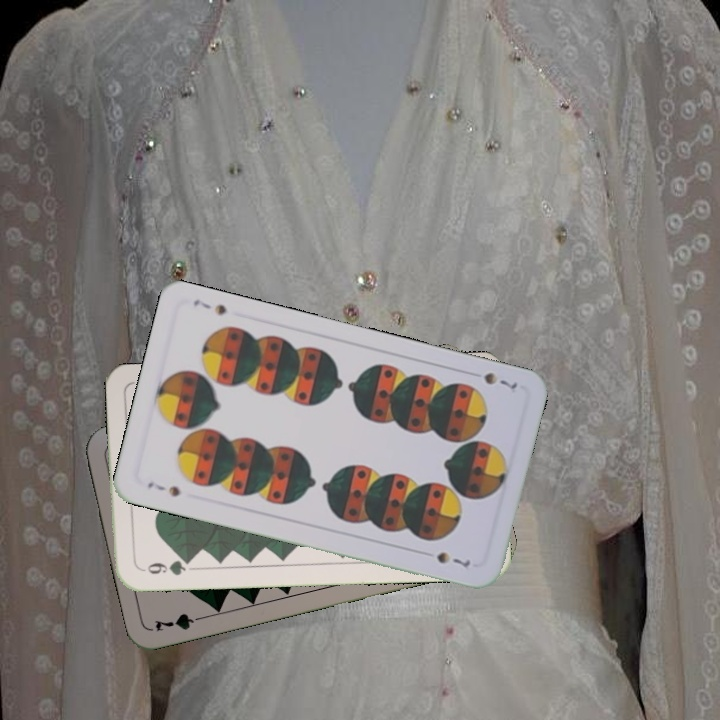G7: (150, 609, 210, 634)
G9: (136, 555, 195, 578)
S7: (479, 368, 520, 396), (143, 478, 183, 500)
